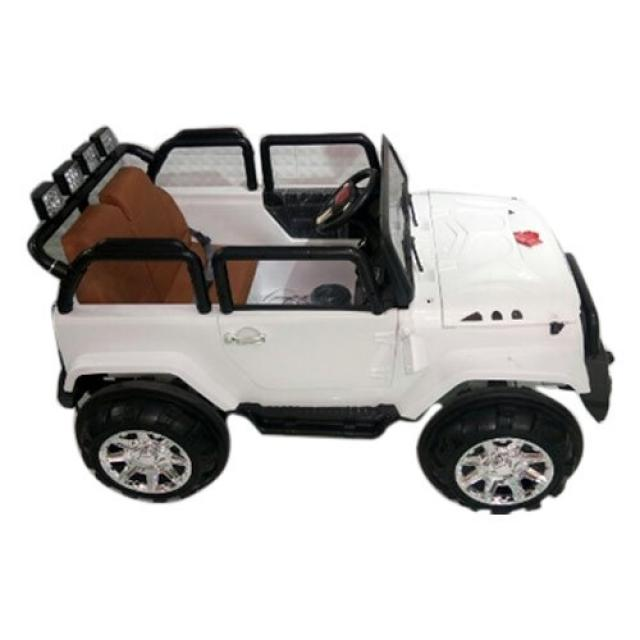Car: (26, 124, 614, 515)
